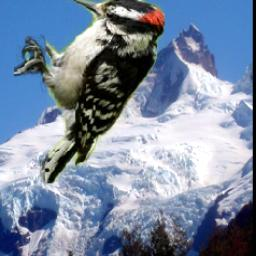Woodpecker: (14, 0, 165, 184)
